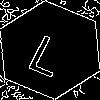L: (25, 25, 74, 78)
